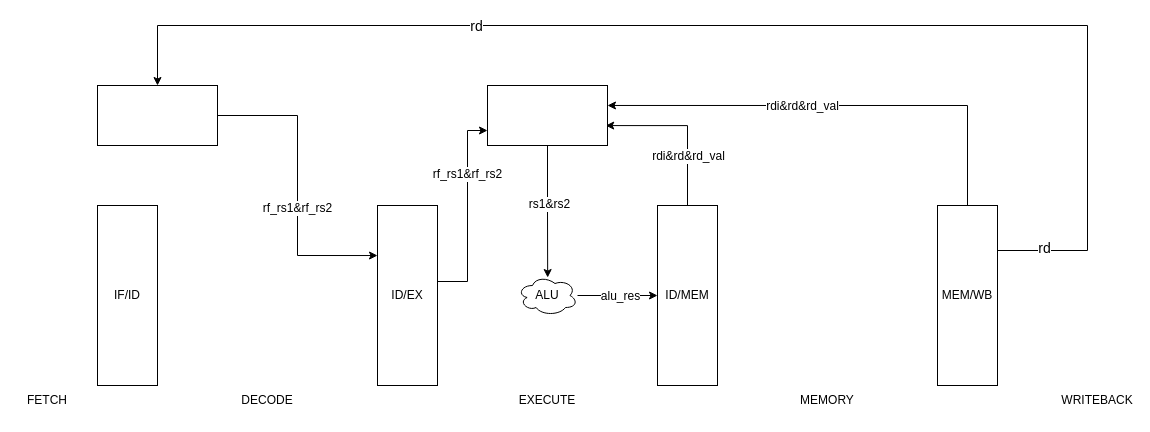
This 1150x432 diagram has some shape labels left out. The centre of each missing label's shape, as x and y in pixels:
FWD_UNIT: pixel 547 115
RF: pixel 157 115
